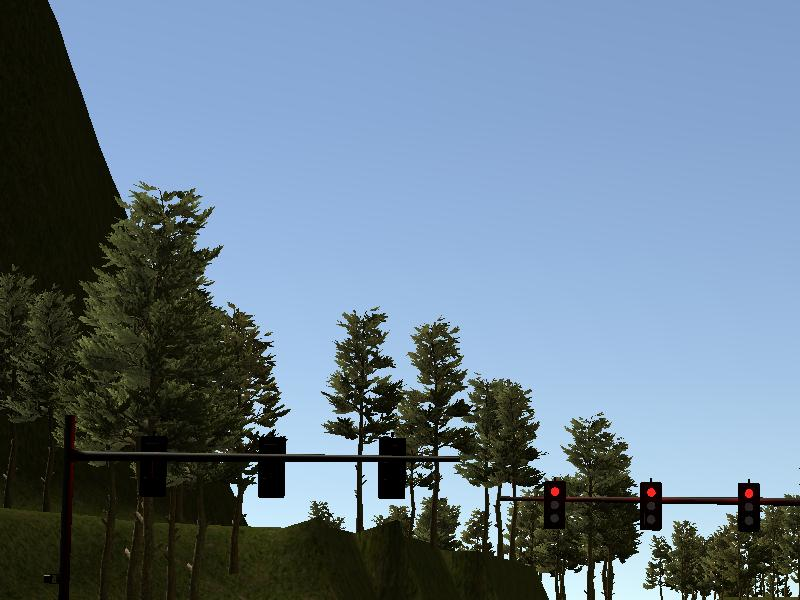Red: (638, 480, 663, 531), (737, 481, 761, 531), (544, 479, 567, 529)
